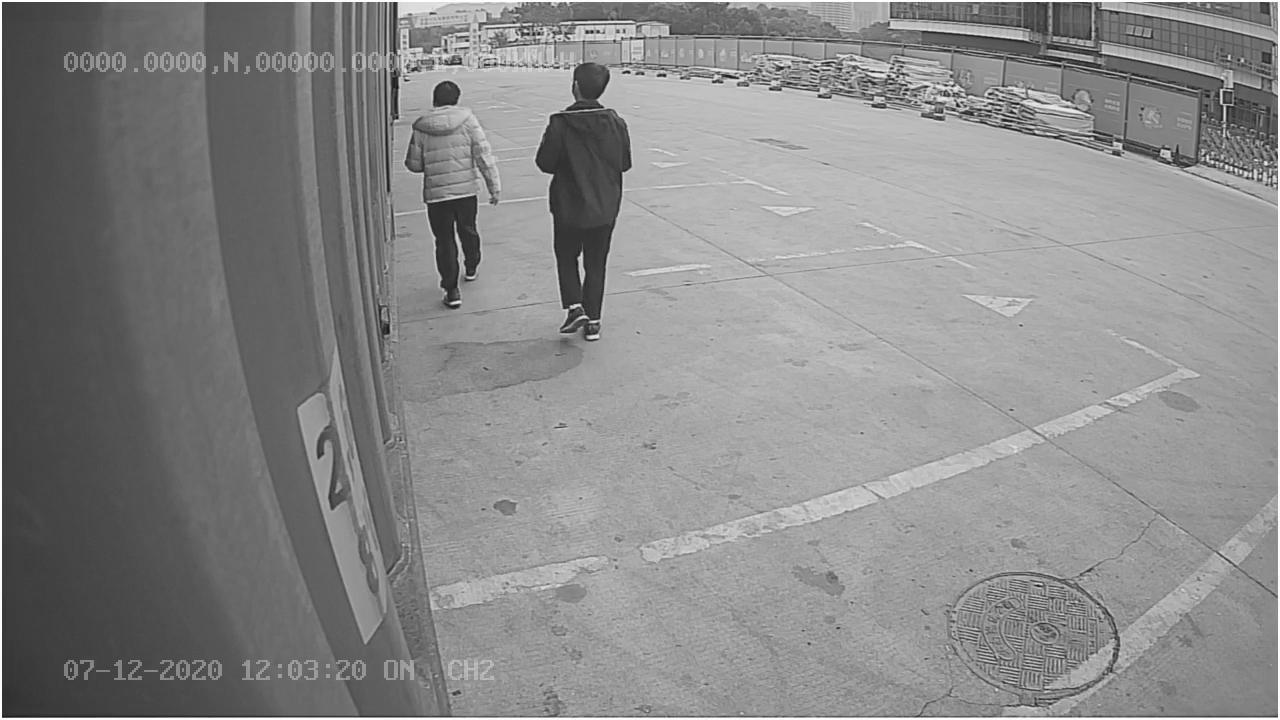person: (531, 56, 629, 341), (406, 76, 501, 311)
